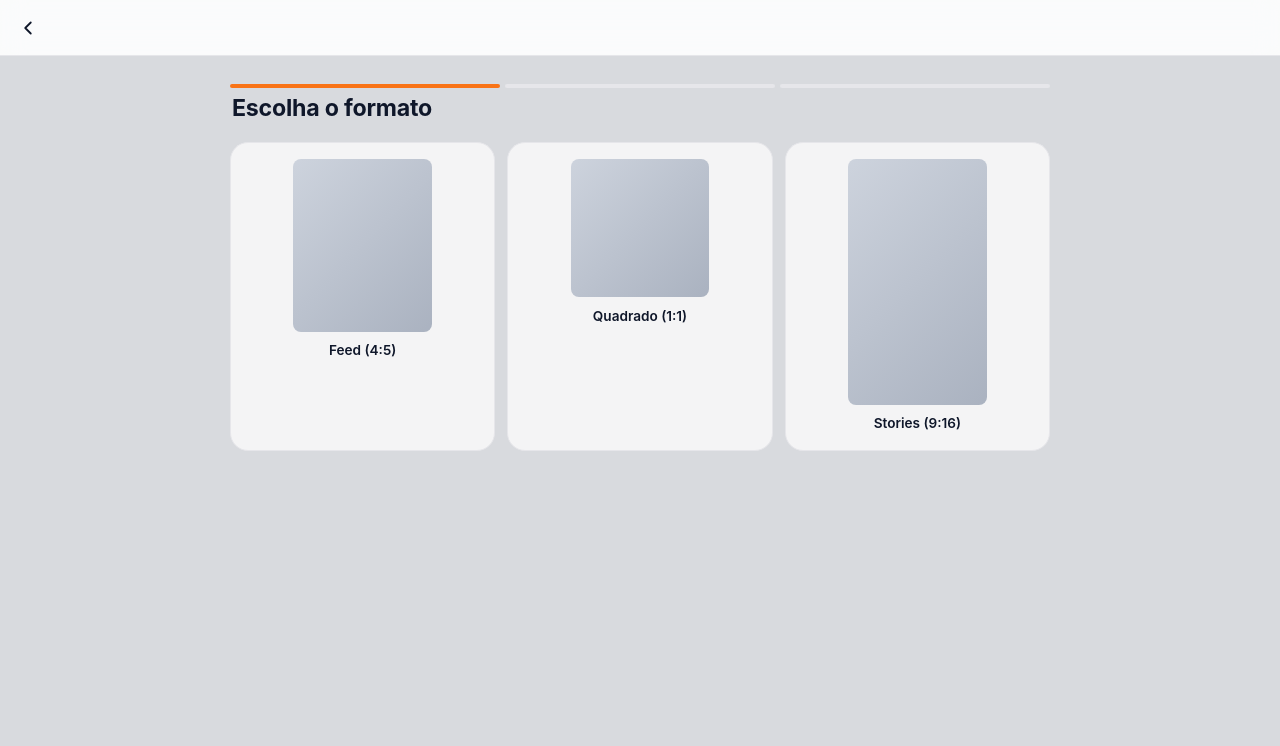
Test: NewProject — fluxo › opção automática leva às fotos com dica de escolha por quantidade
Click the button "Feed (4:5)".
click(363, 296)  # box [230,142,495,451]
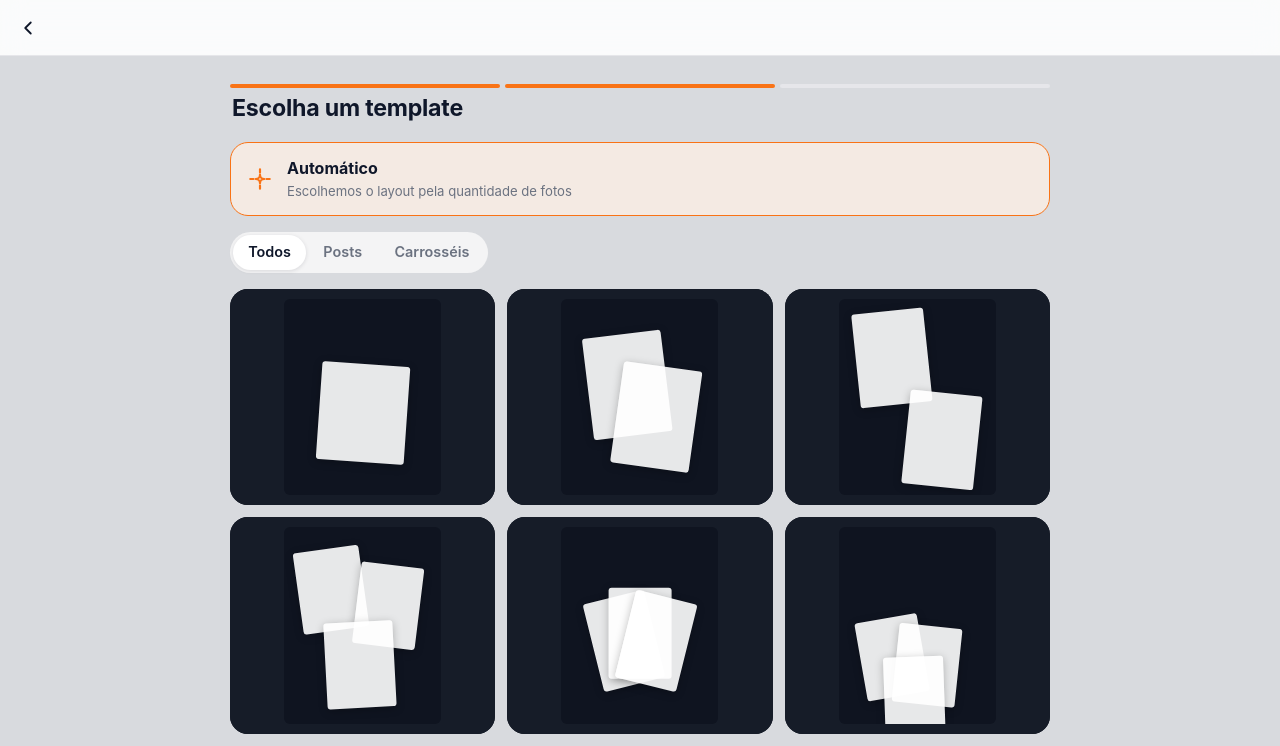
Click the button "Automático Escolhemos o layout pela quantidade de fotos".
click(332, 168)  # box [230,142,1050,216]
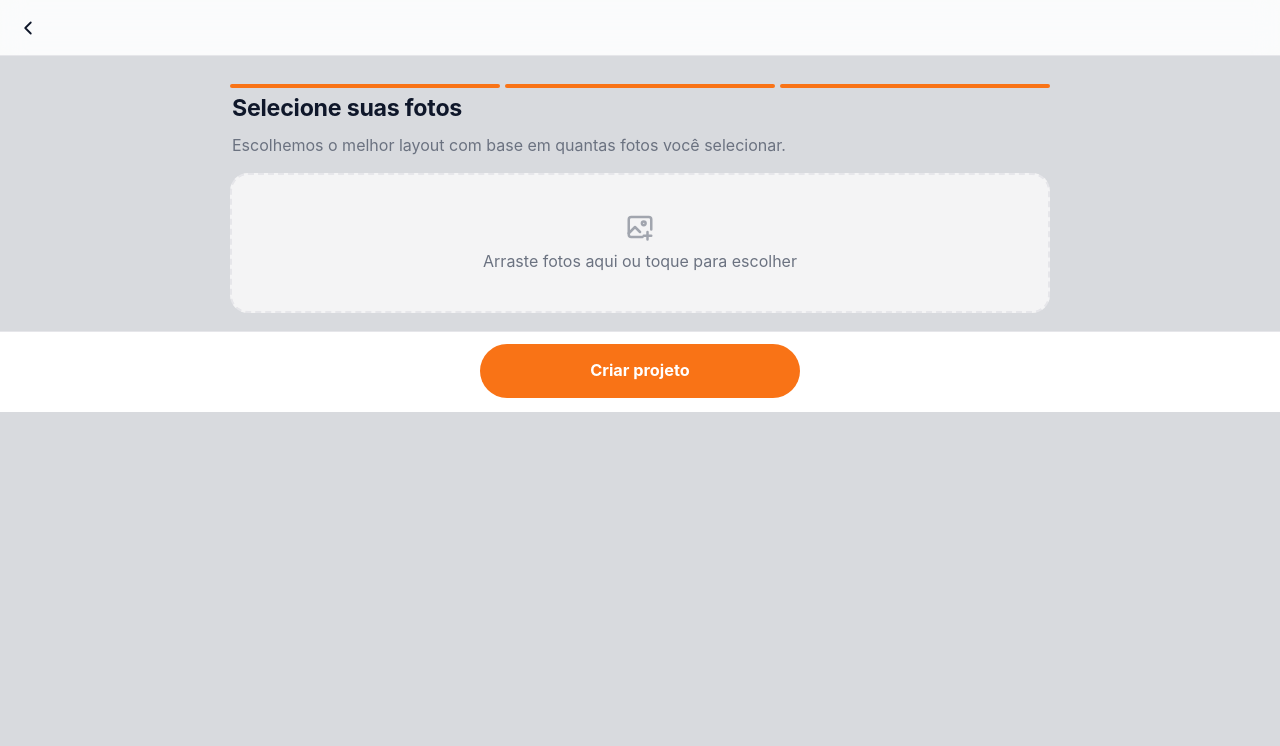
Expected: the heading "Selecione suas fotos" is shown, [232,94,462,122]
Expected: the text "Escolhemos o melhor layout" is shown, [232,135,786,155]
